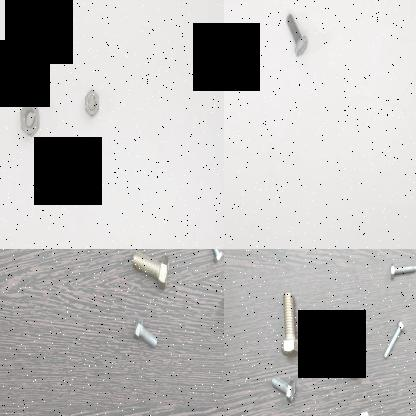Bolts: (327, 319, 370, 381), (129, 249, 173, 293), (280, 286, 306, 359), (282, 10, 310, 61), (134, 312, 162, 356), (382, 320, 410, 362), (270, 372, 304, 402), (386, 258, 416, 282), (201, 249, 223, 269), (354, 406, 375, 416)
NUTS: (17, 92, 44, 150), (77, 82, 103, 122)
